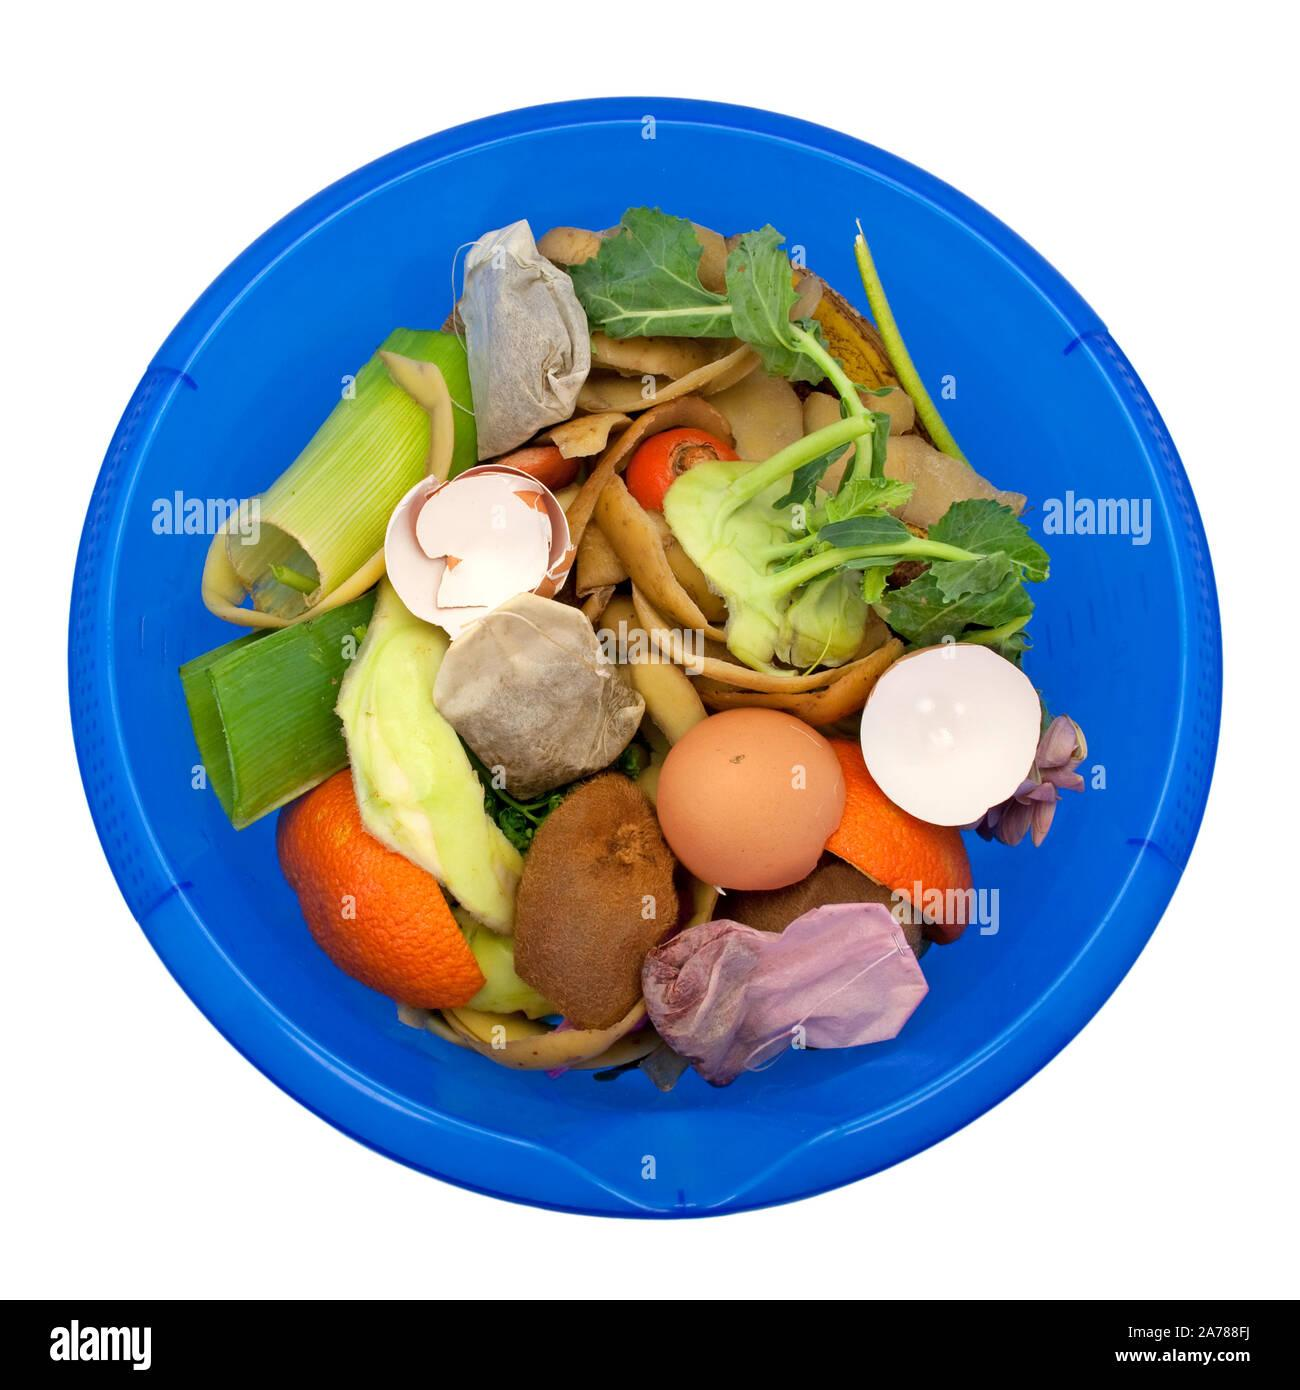organic: (662, 418, 1053, 680), (202, 330, 483, 627), (336, 588, 524, 930), (568, 217, 876, 414), (638, 904, 933, 1092), (272, 765, 491, 1011), (434, 591, 645, 801), (514, 773, 682, 1028), (458, 221, 588, 458), (627, 429, 739, 507), (1298, 90, 1300, 161)
